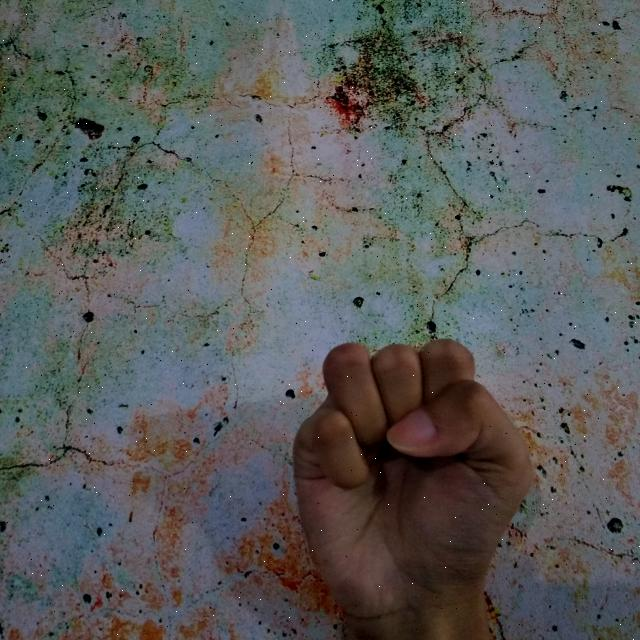S: (289, 331, 538, 640)
